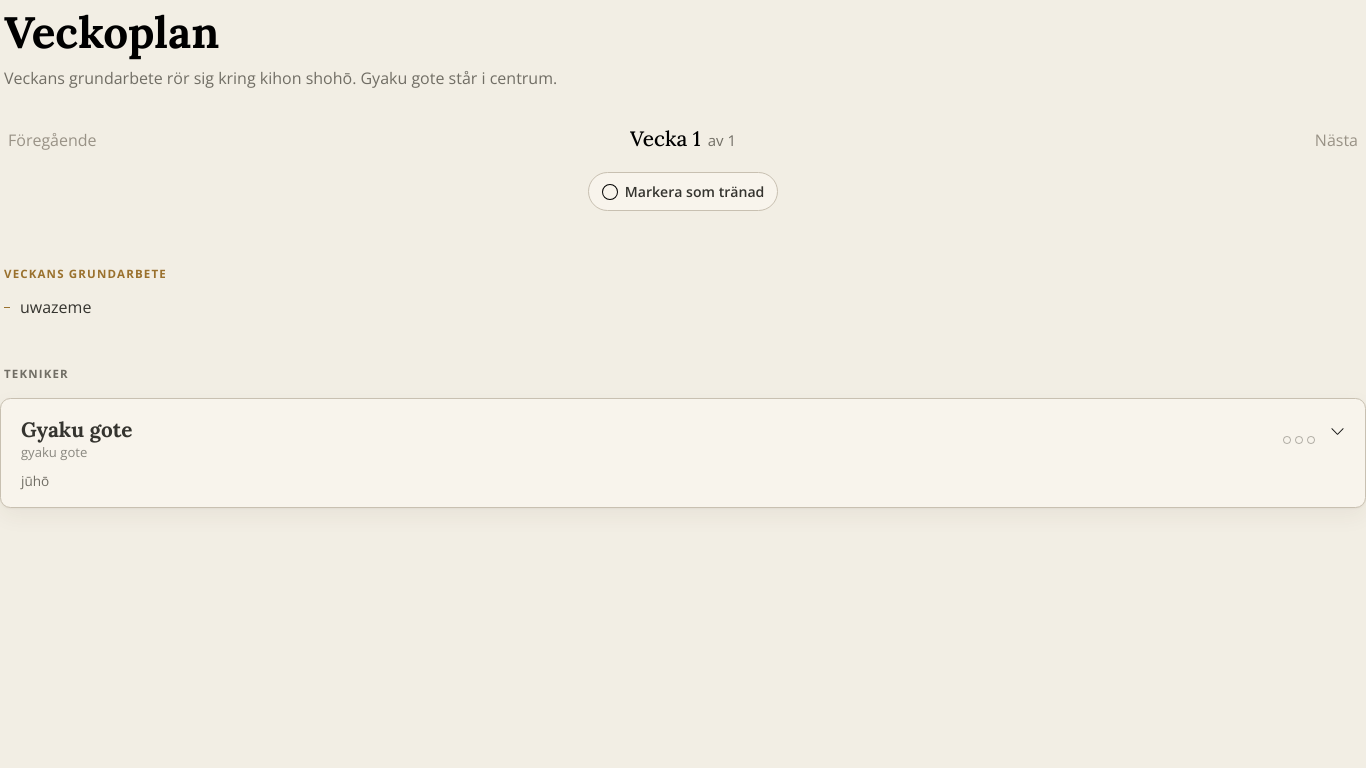
Kamoku weekly plan › marks a grade week as practised and opens a stable editable completion panel
Click the button "Markera som tränad": x=683, y=192 [588,172,778,211]
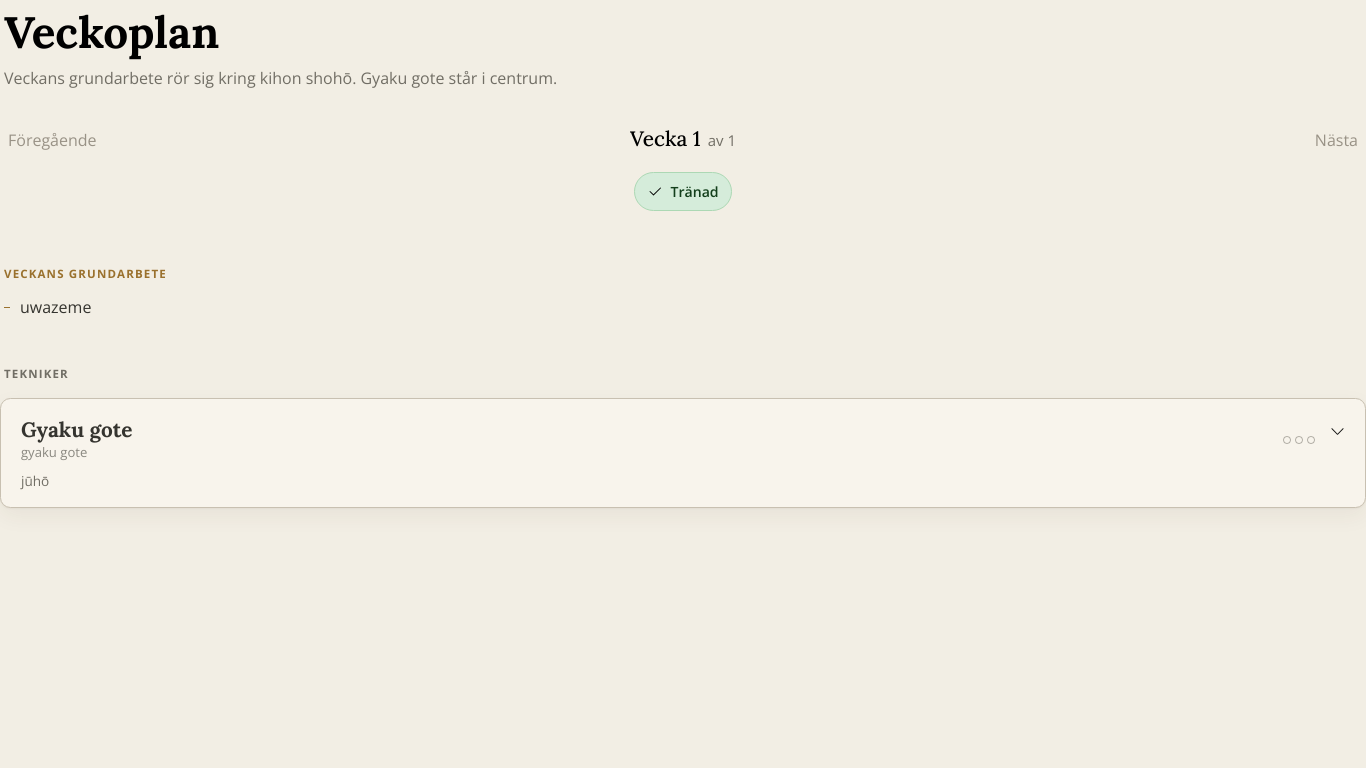
Expected: the text "Tränad" is shown, [670,181,719,202]
Hover over the button with aria-label "Visa när vecka 1 klarmarkerades": x=683, y=192 [634,172,732,211]
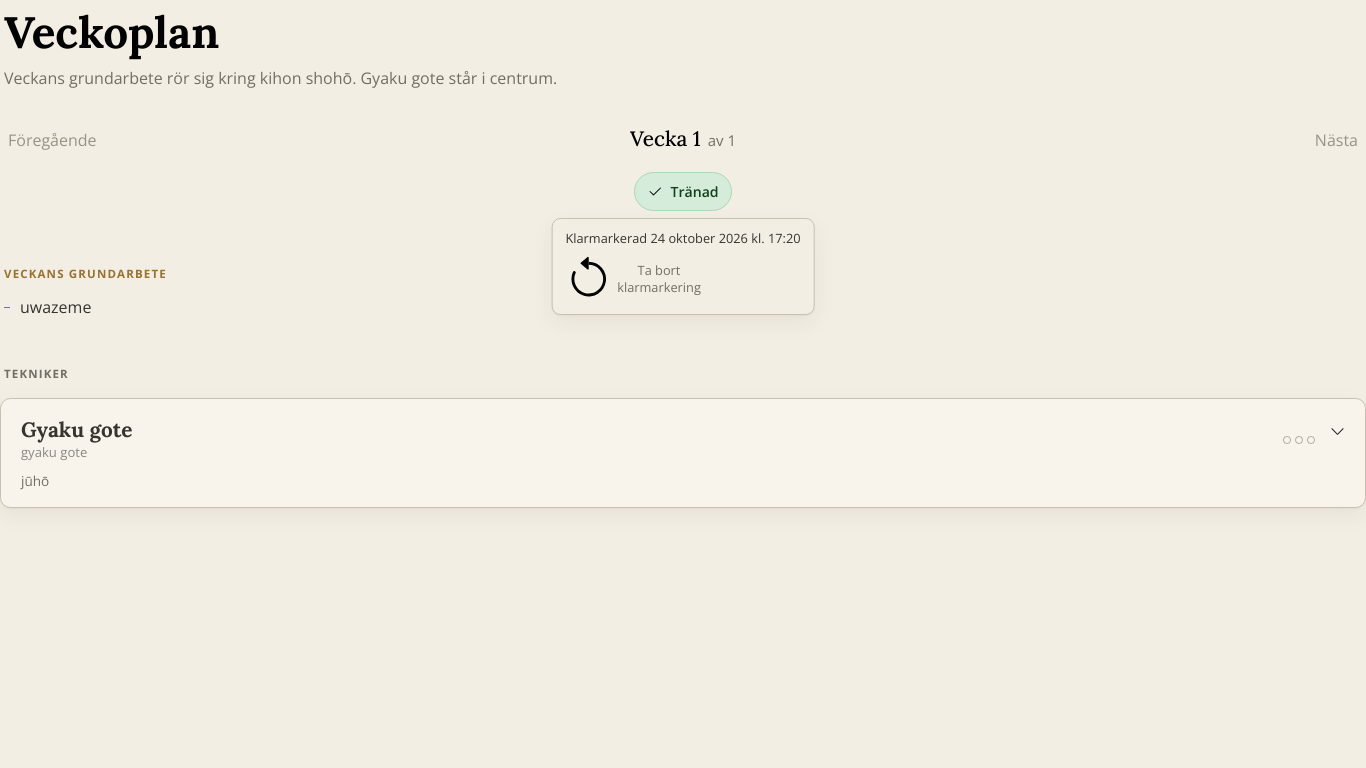
Expected: the dialog shows "Klarmarkerad", [565,229,800,247]
Click the button with aria-label "Visa när vecka 1 klarmarkerades": x=683, y=192 [634,172,732,211]
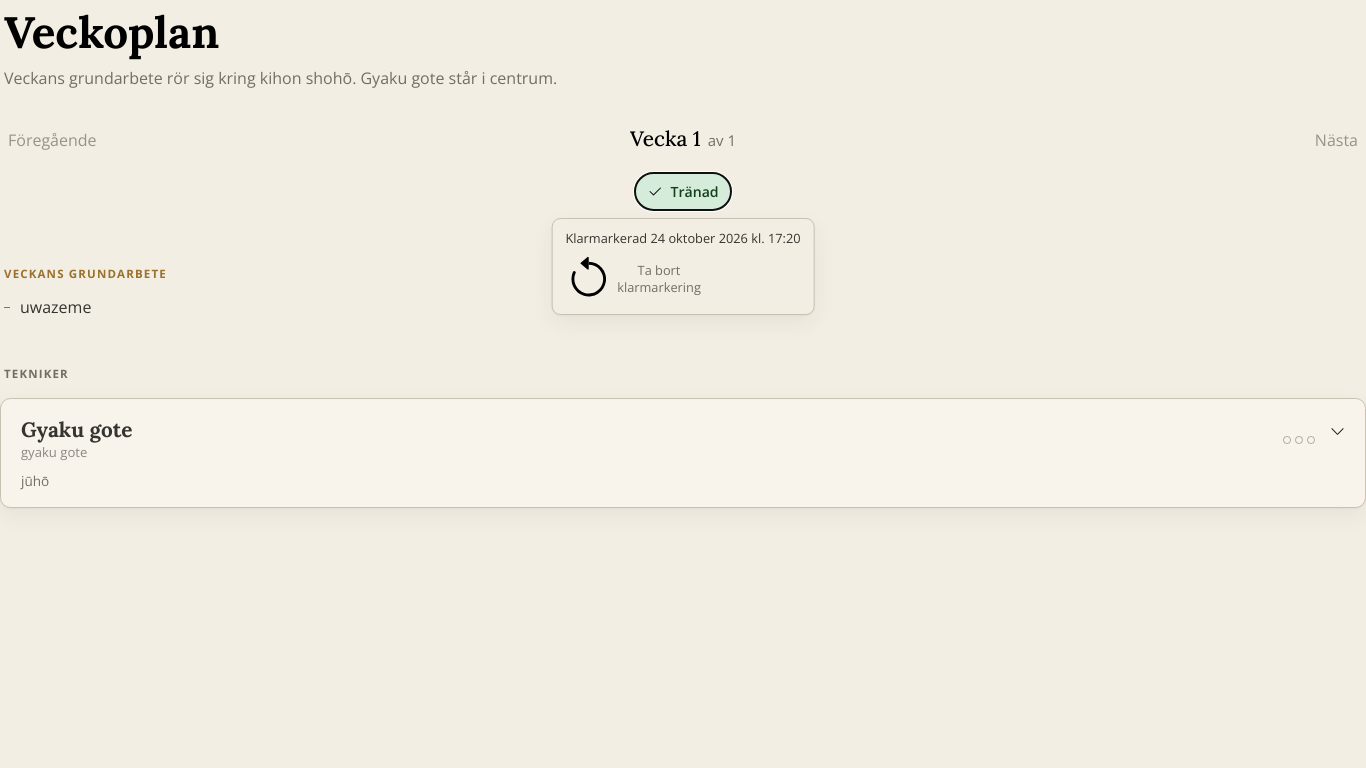
Move the pointer off the button with aria-label "Visa när vecka 1 klarmarkerades", box [634,172,732,211]
Expected: the dialog shows "Klarmarkerad", [565,229,800,247]
Click the button "Ta bort klarmarkering": x=633, y=279 [565,256,701,302]
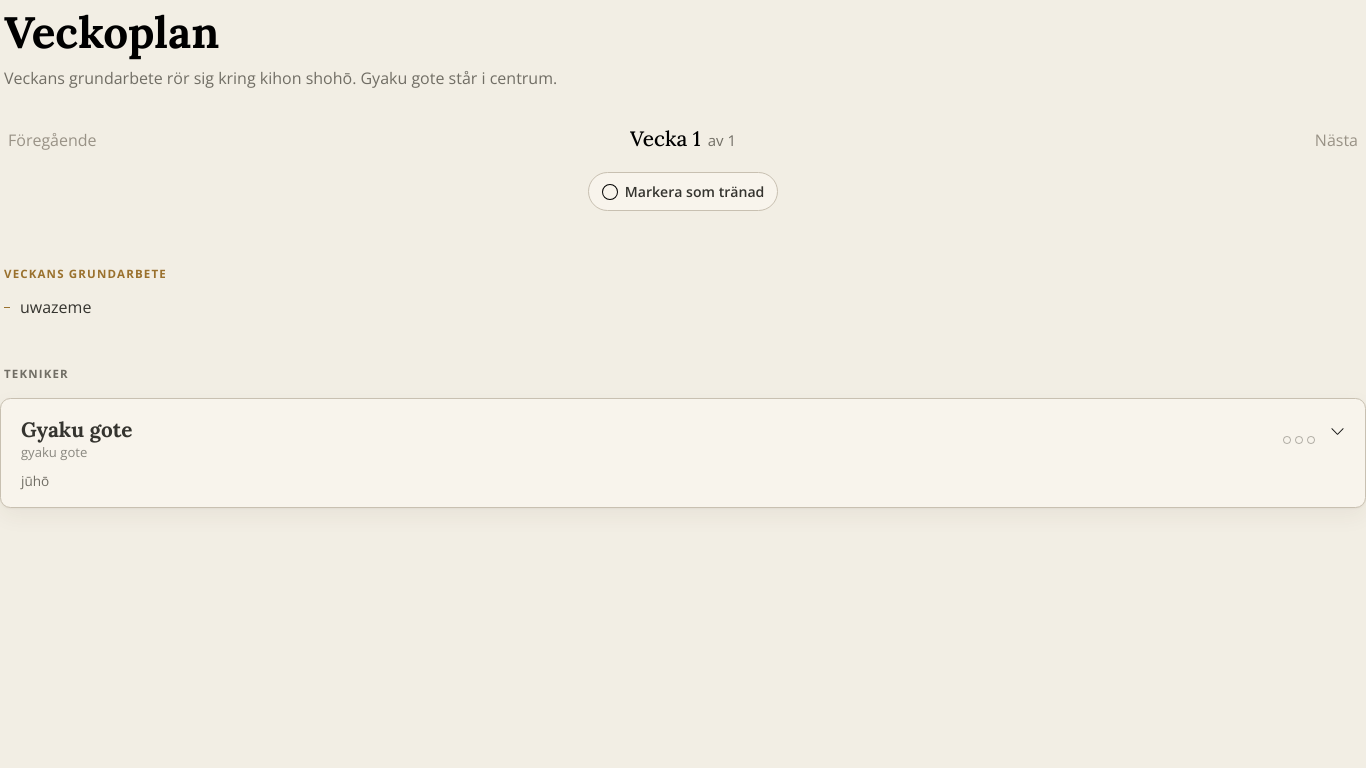
Expected: the button "Markera som tränad" is shown, [588,172,778,211]
